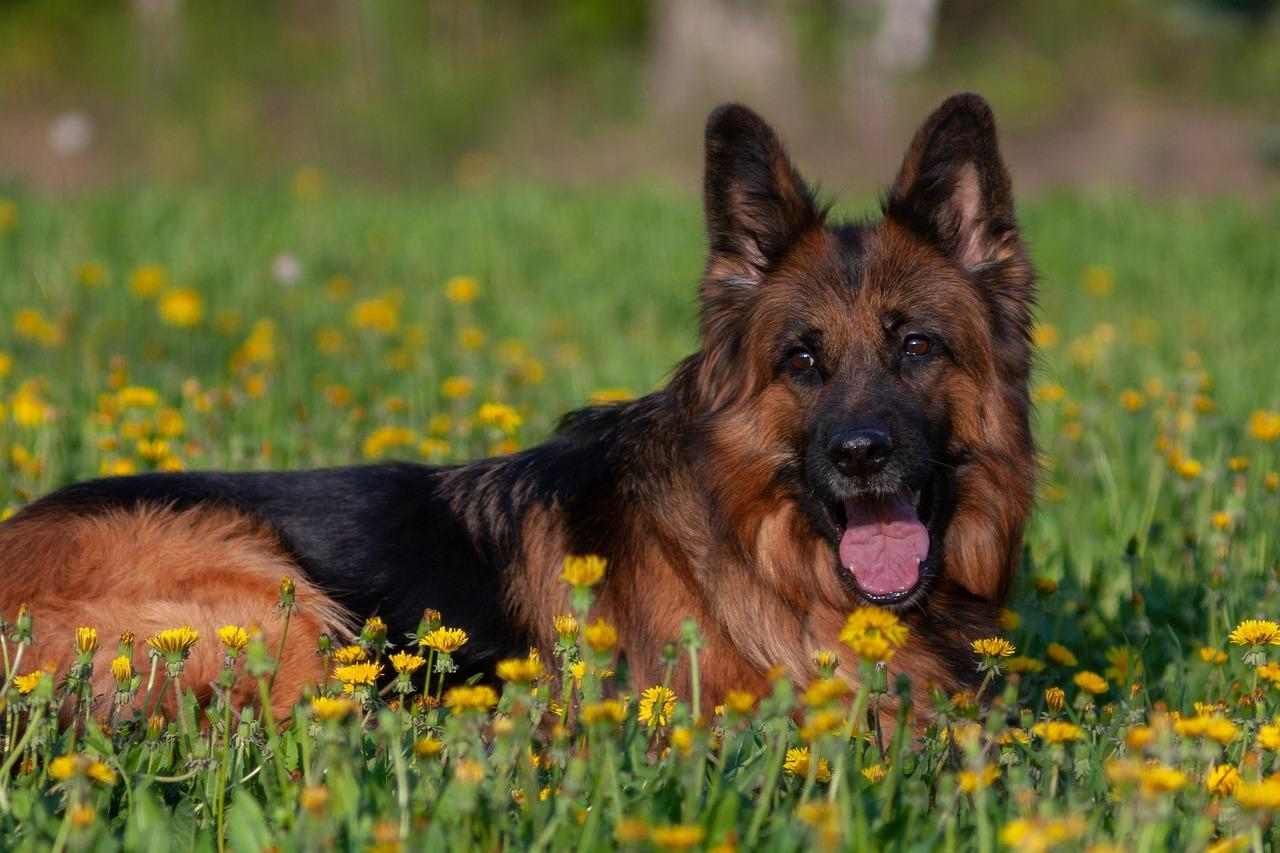german_shepherd: (671, 123, 1063, 640)
